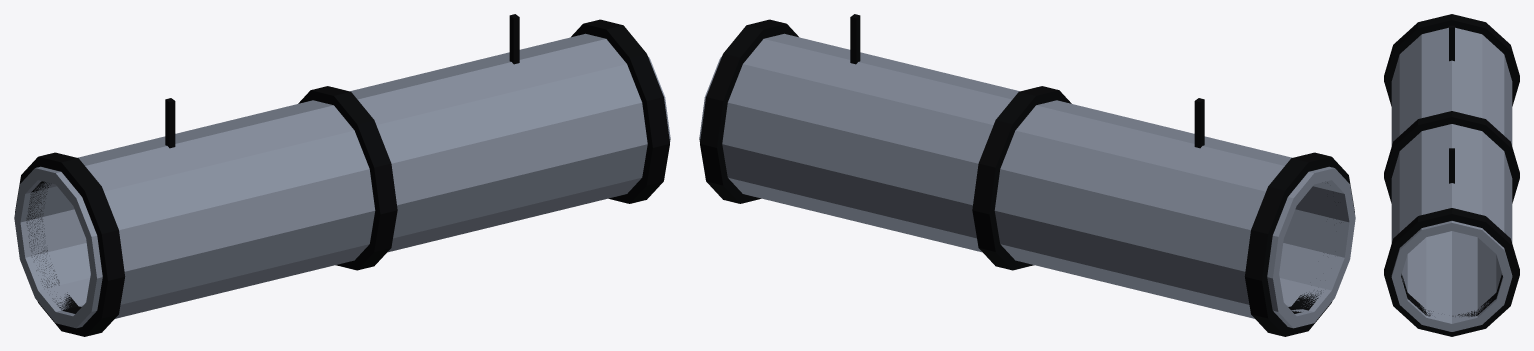
Rendered from SM_Duct_Rat_2m.glb.
3 renders of one model, left to right at view 1: azimuth 30°, elevation 25°; view 2: azimuth 150°, elevation 25°; view 3: azimuth 270°, elevation 25°, orthographic. The views are drawn at different scales.
Visible parts, largest first — view 1: SM_Duct_Rat_2m-col; view 2: SM_Duct_Rat_2m-col; view 3: SM_Duct_Rat_2m-col.
Boxes of the visible parts, box(x1,y1,x2,y2) form: SM_Duct_Rat_2m-col: box(14, 14, 670, 336); SM_Duct_Rat_2m-col: box(699, 14, 1355, 336); SM_Duct_Rat_2m-col: box(1384, 14, 1519, 336).
Size of the model in its own units: 2 by 0.6813 by 0.5625.
